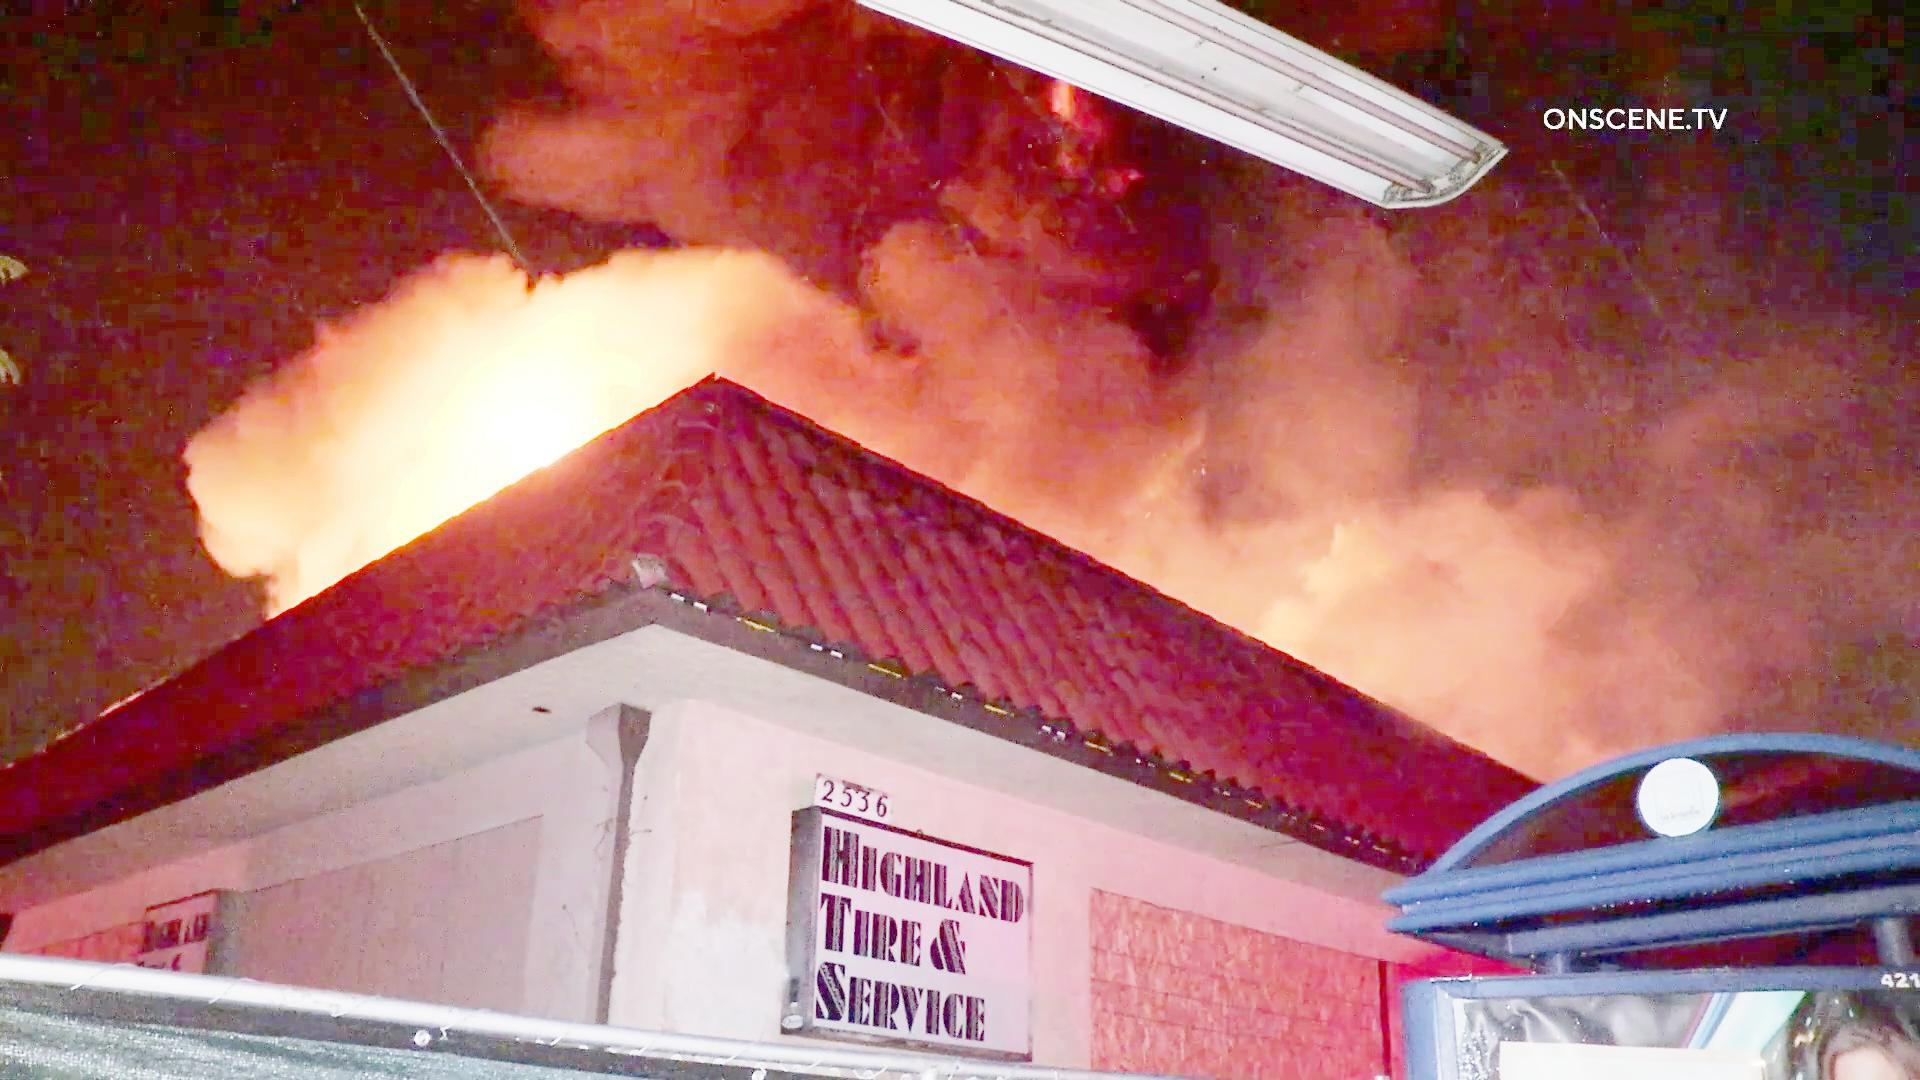fire: (465, 313, 613, 484)
smoke: (968, 198, 1908, 549)
